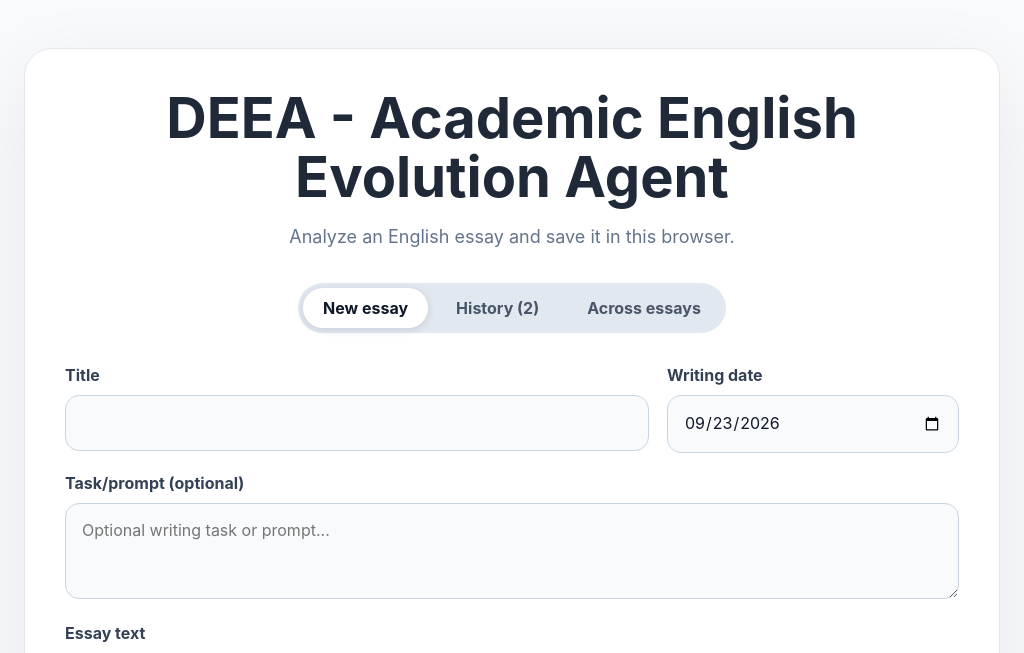
it: essay deletion confirmation › does not delete an essay on the first Delete click
Step 1. Click the button "History (2)" → (498, 308), box [436, 288, 559, 328]
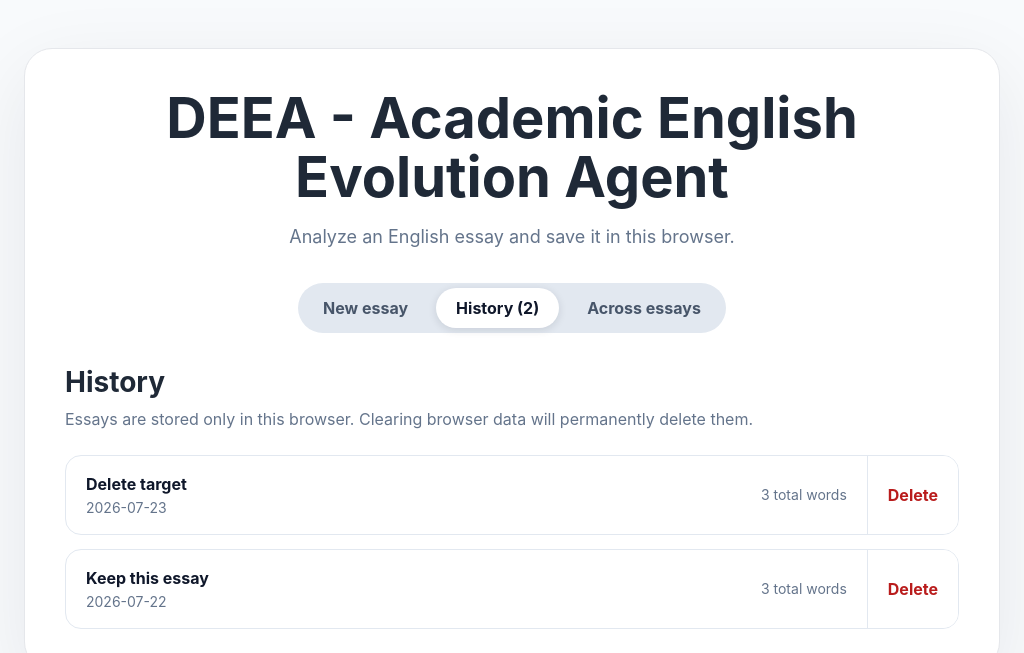
Expected: the 1st button with class "delete-button" is shown
Step 2. Click the 1st button with class "delete-button" → (912, 495), box [867, 456, 958, 534]
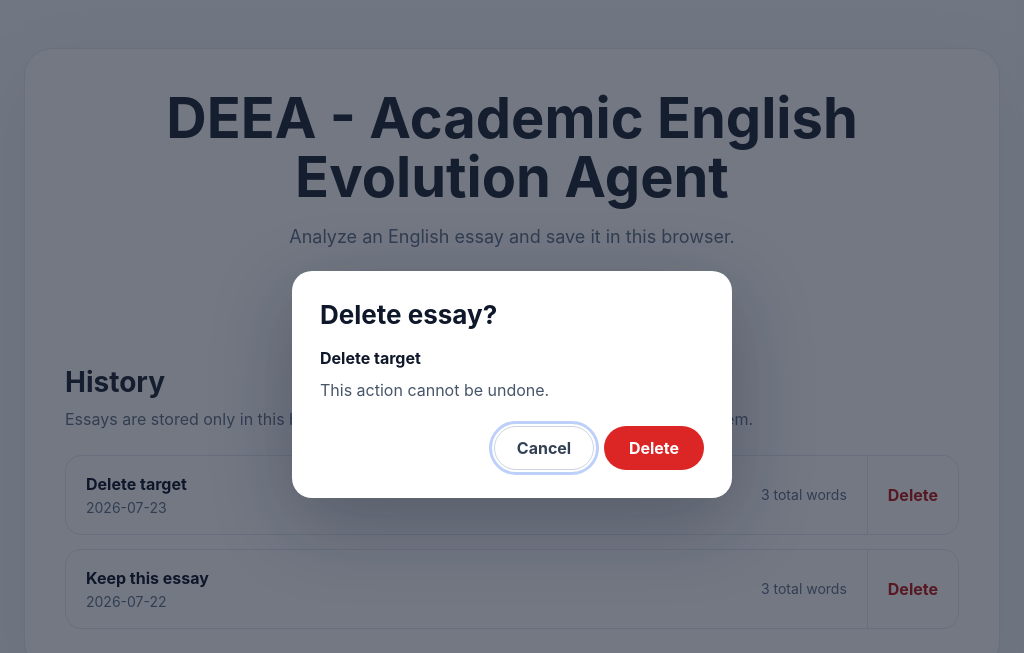
Expected: the dialog is shown, [292, 270, 732, 498]
Expected: the heading "Delete essay?" is shown, [320, 298, 497, 330]
Expected: the dialog shows "Delete target", [320, 348, 421, 368]
